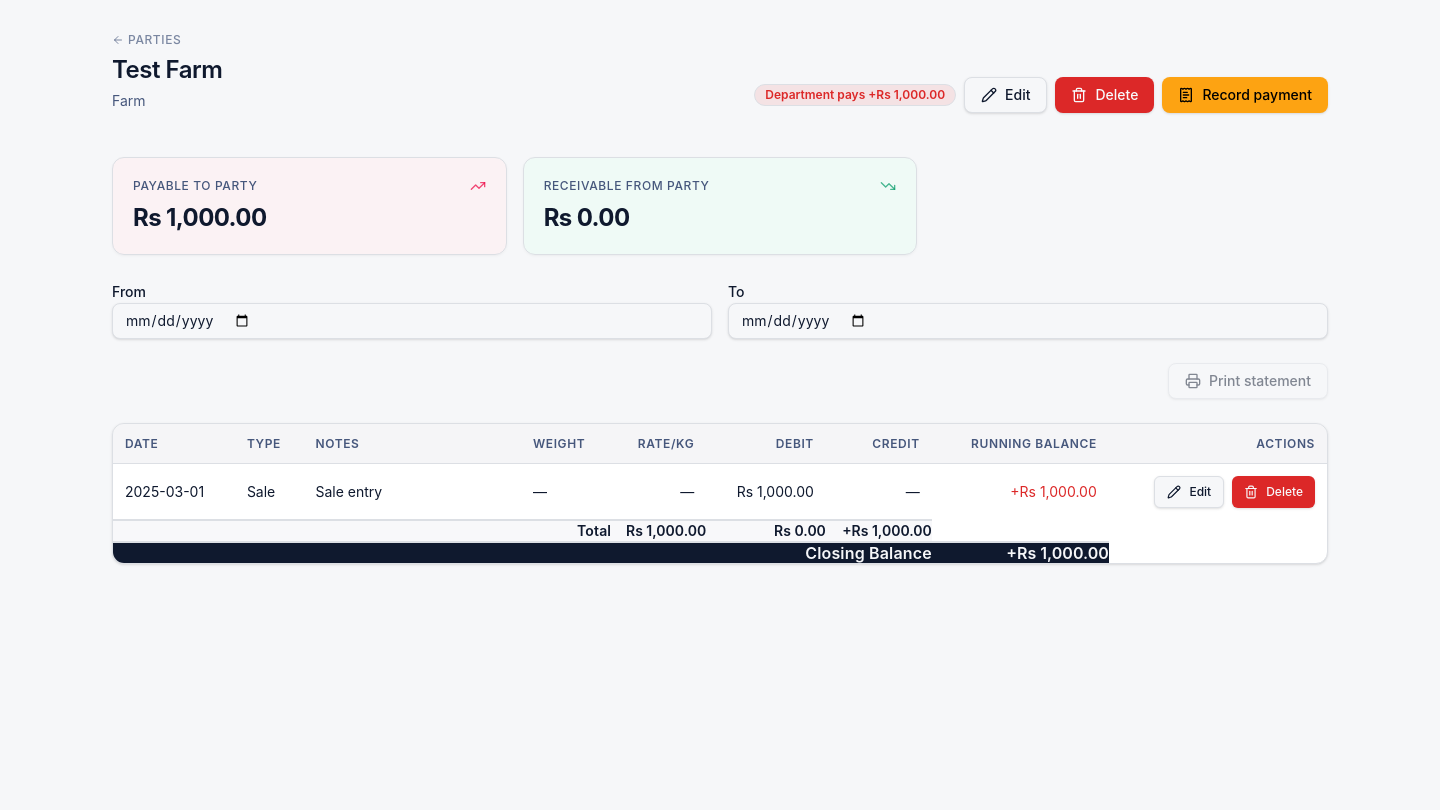
Test: PartyStatementPage › shows a validation error when amount is missing on payment submit
Click the button "Record payment".
click(1245, 95)  # box [1162,77,1328,113]
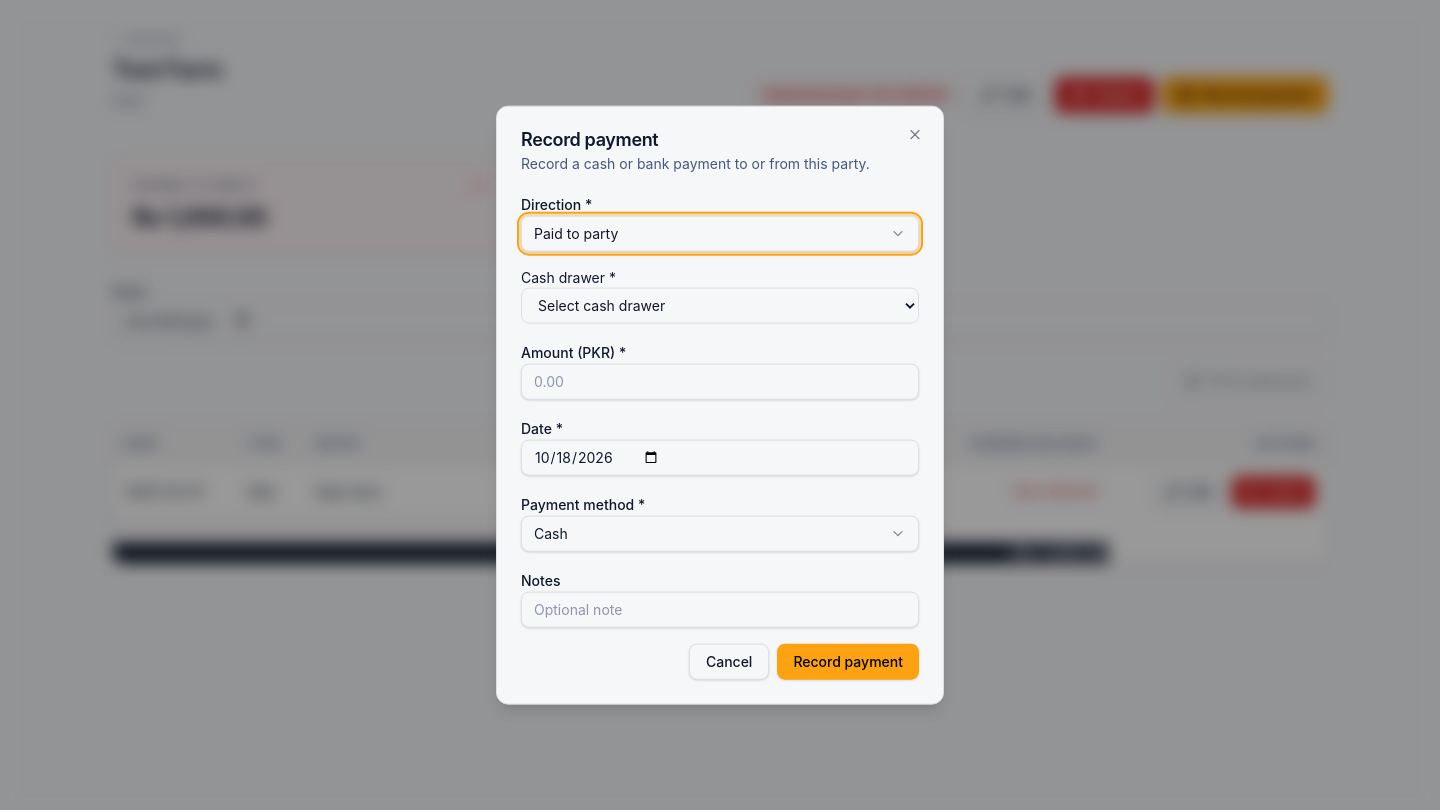
Clear the number field labelled "Amount (PKR) *" at (720, 381), box [521,363,919,399]
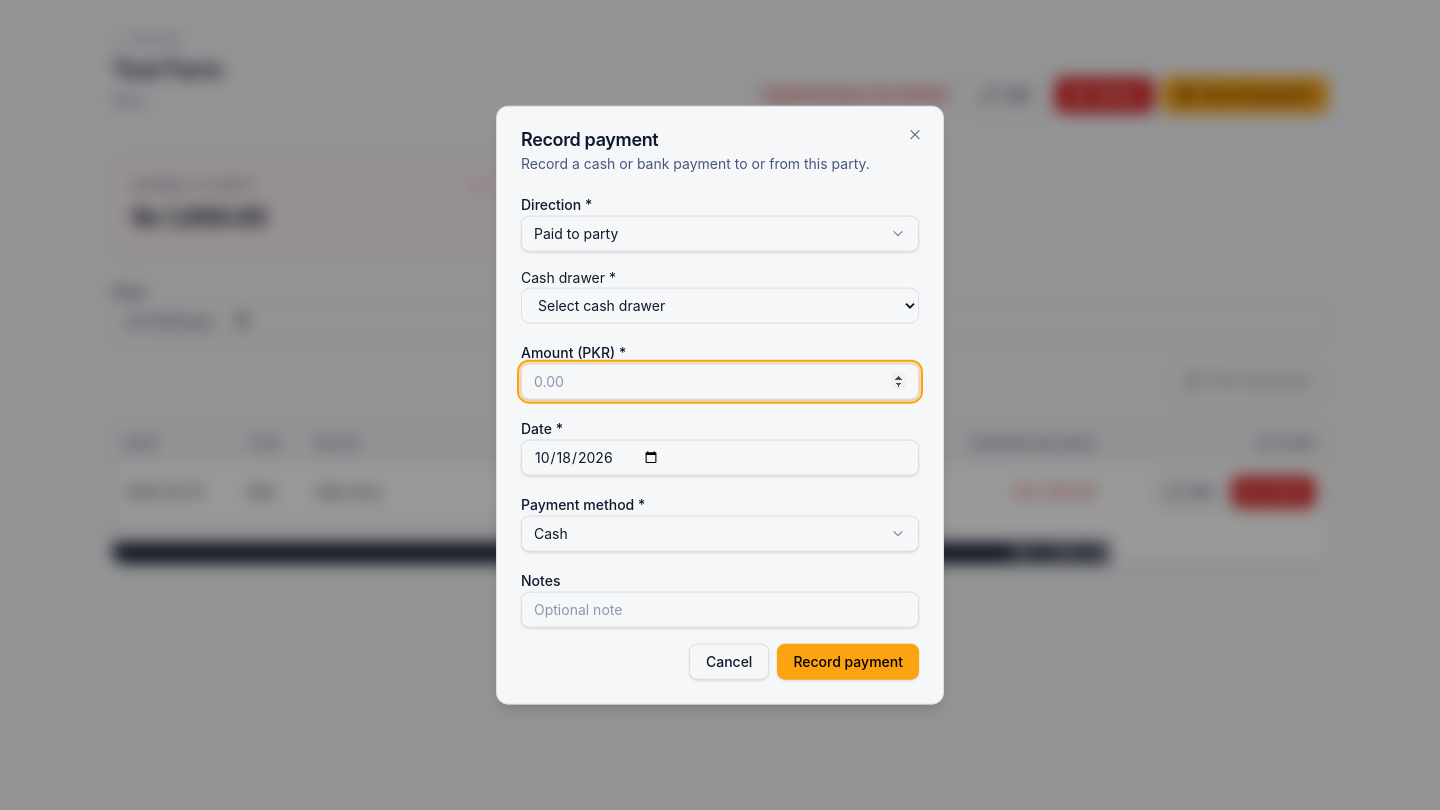
Click the button "Record payment".
click(848, 661)  # box [777,643,919,679]
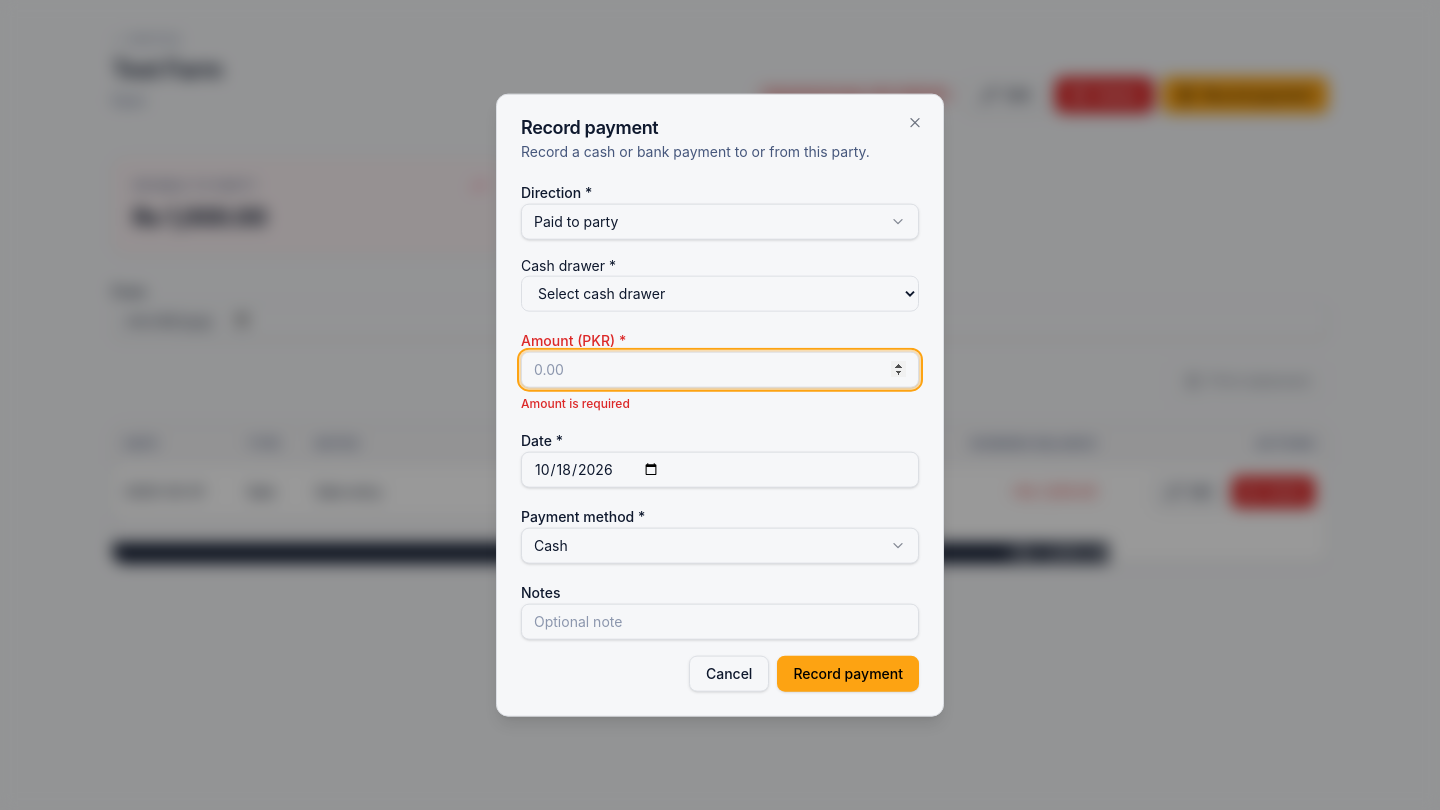
Result: the text "Amount is required" is shown at [521,395,630,410]
